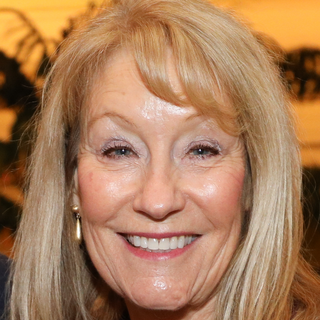eye: (98, 139, 144, 164), (180, 139, 225, 164)
